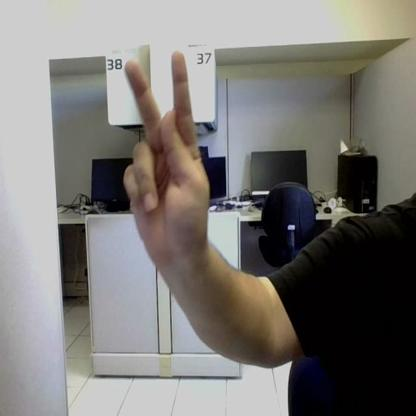K: (123, 51, 208, 267)
